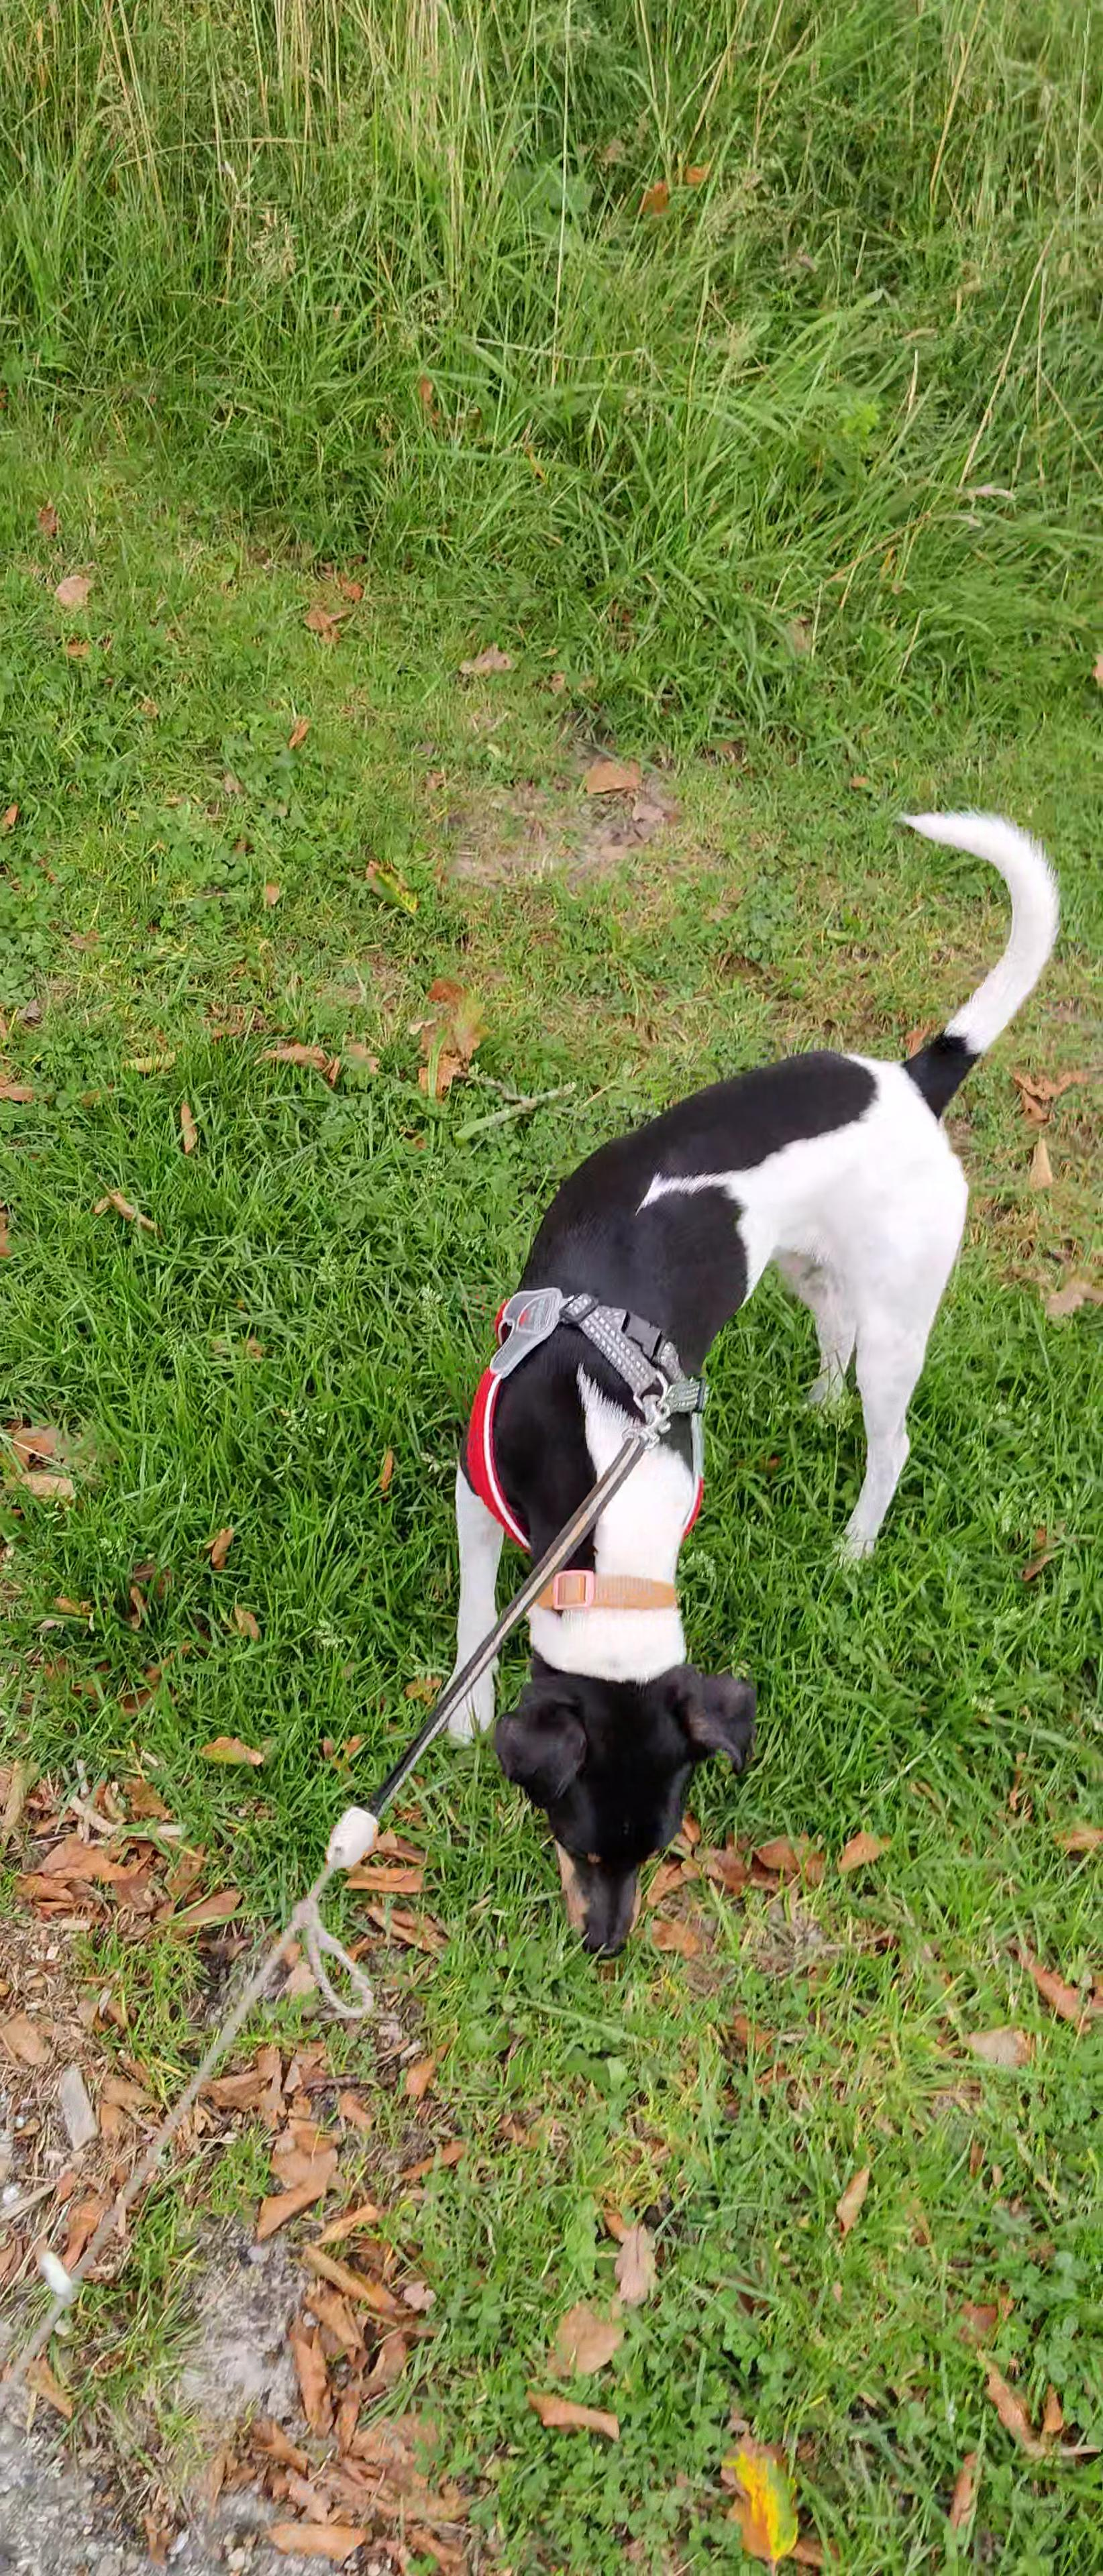Dog: (418, 779, 1075, 1973)
